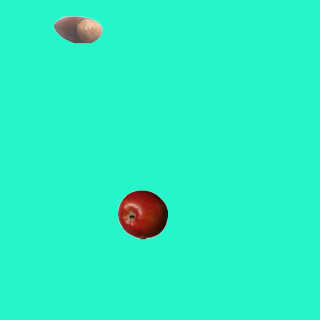Apple Braeburn: (117, 189, 167, 239)
Hazelnut: (52, 4, 102, 54)
